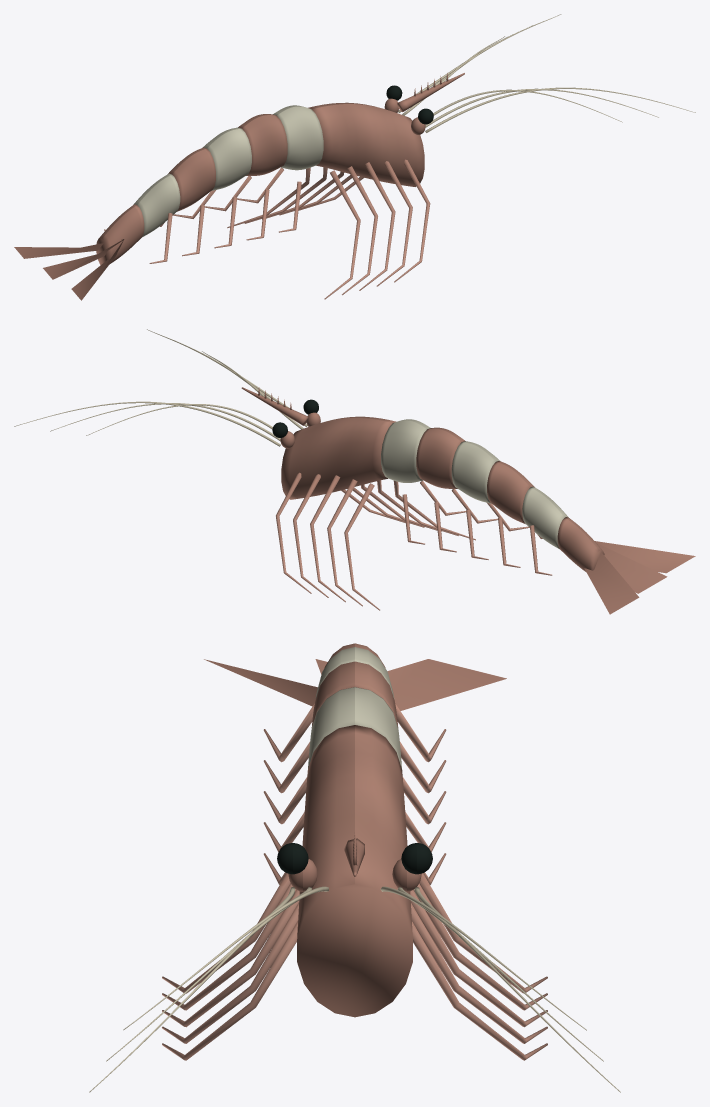
Rendered from crystal-desktop.glb.
3 renders of one model, top to bottom at view 1: azimuth 30°, elevation 25°; view 2: azimuth 150°, elevation 25°; view 3: azimuth 270°, elevation 25°, orthographic. The views are drawn at different scales.
Parts seen in each view (by area): view 1: carapace, pereiopod, antenna, pleopod, serrated-rostrum; view 2: carapace, pereiopod, antenna, pleopod, serrated-rostrum; view 3: carapace, pereiopod, pleopod, antenna, eye, eye-stalk.
Part boxes in pixels (x1,y1,x2,y2): carapace: [14, 102, 424, 300]; pereiopod: [227, 159, 430, 299]; antenna: [398, 14, 695, 132]; pleopod: [104, 167, 301, 263]; serrated-rostrum: [397, 73, 464, 111]; carapace: [281, 416, 695, 614]; pereiopod: [276, 472, 475, 610]; antenna: [14, 329, 307, 446]; pleopod: [402, 480, 552, 575]; serrated-rostrum: [241, 387, 308, 425]; carapace: [204, 643, 506, 1017]; pereiopod: [162, 873, 547, 1060]; pleopod: [263, 703, 446, 884]; antenna: [89, 886, 620, 1092]; eye: [277, 843, 432, 874]; eye-stalk: [288, 859, 421, 891].
Bounding box in the file's own units: 1.18 × 0.2938 × 0.4706.
